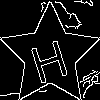H: (25, 30, 71, 85)
